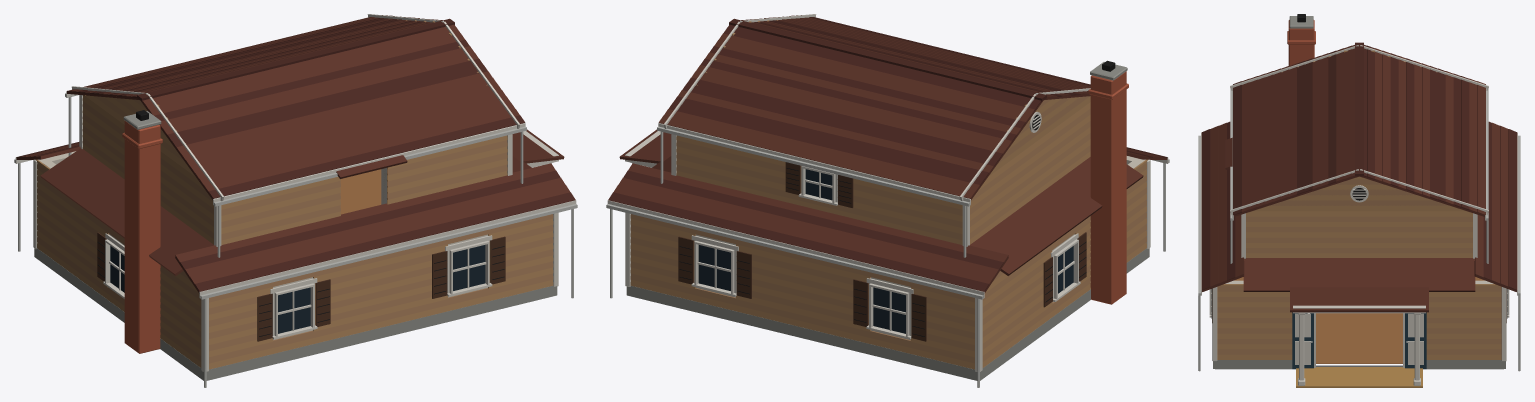
Rendered from house-terracotta-attic.glb.
3 views of the same model, side by side, from view 1: azimuth 30°, elevation 25°; view 2: azimuth 150°, elevation 25°; view 3: azimuth 270°, elevation 25° (orthographic). The views are drawn at different scales.
Parts seen in each view (by area): view 1: house-terracotta-attic; view 2: house-terracotta-attic; view 3: house-terracotta-attic.
Part boxes in pixels (<box>): house-terracotta-attic: <box>14,14,577,387</box>; house-terracotta-attic: <box>606,14,1169,387</box>; house-terracotta-attic: <box>1198,14,1520,387</box>.
Size of the model in its own units: 14.67 by 7.67 by 11.14.
